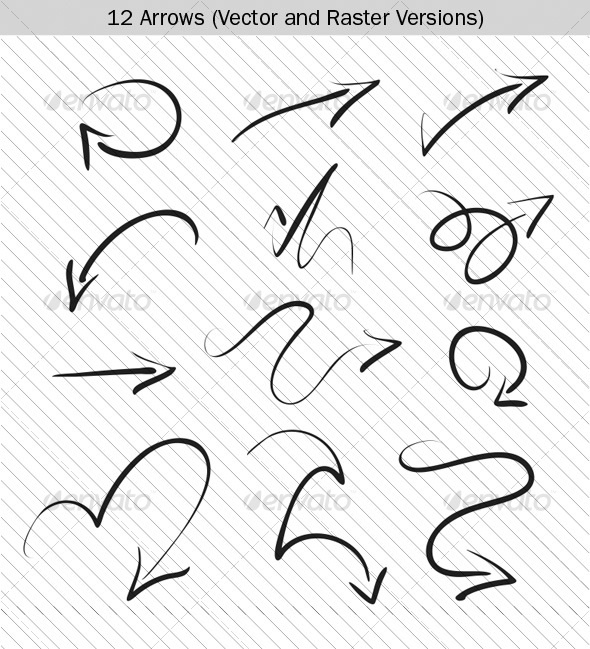arrow: (14, 430, 219, 605), (243, 424, 389, 613), (395, 432, 540, 604), (195, 292, 403, 410), (51, 201, 211, 318), (405, 181, 558, 295), (411, 61, 560, 165), (220, 68, 388, 148), (69, 74, 191, 173), (436, 321, 539, 417), (46, 348, 179, 397)
